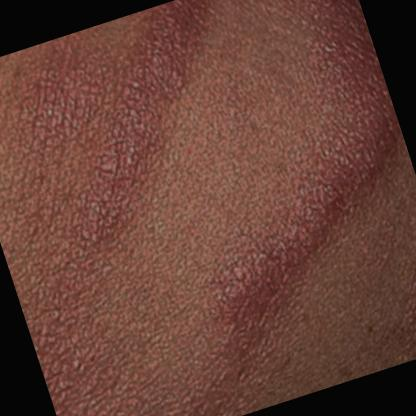Leprosy: (0, 0, 410, 281), (171, 166, 416, 416)
